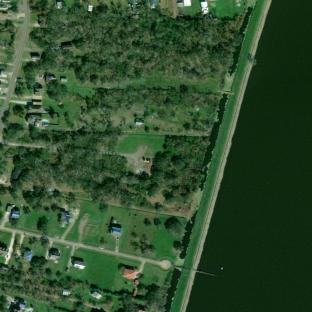Floresta: (25, 2, 243, 88), (13, 133, 210, 207), (4, 123, 121, 150), (0, 256, 61, 307), (145, 284, 166, 312), (121, 295, 138, 312), (60, 277, 78, 285), (0, 0, 0, 0)
